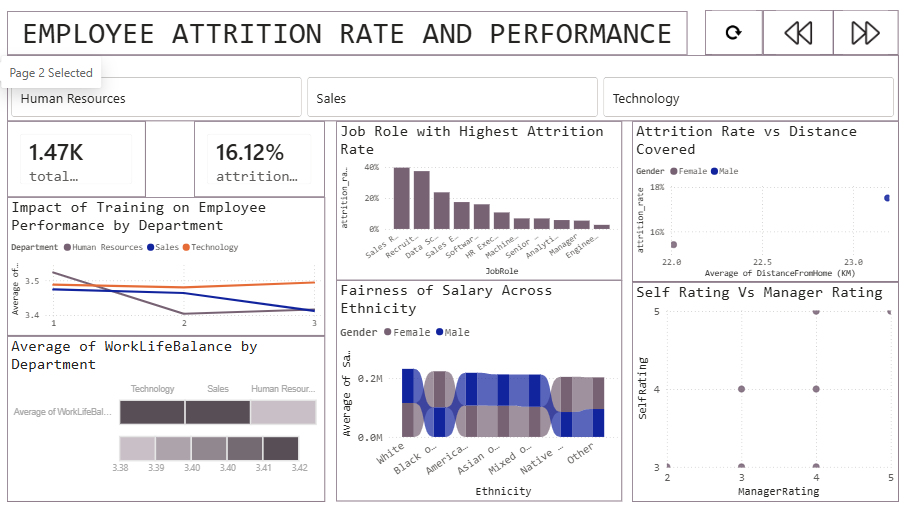

This screenshot's page, from the dashboard's own definition file:
{"tool":"powerbi","page":{"name":"Page 2","canvas":[1280,720],"ordinal":1},"visuals":[{"type":"cardVisual","fields":{"Data":["Employee.total employee"]},"box":[17.8,174.3,194.9,107],"z":0},{"type":"cardVisual","fields":{"Data":["Employee.attrition_rate"]},"box":[281.3,174.3,183.9,107],"z":1000},{"type":"clusteredColumnChart","title":"Job Role with Highest Attrition Rate","fields":{"Category":["Employee.JobRole"],"Y":["Employee.attrition_rate"]},"box":[480.3,174.3,402.1,223.7],"z":2000},{"type":"scatterChart","title":"Attrition Rate vs  Distance Covered","fields":{"X":["Avg(Employee.DistanceFromHome (KM))"],"Y":["Employee.attrition_rate"],"Category":["Employee.Gender"],"Series":["Employee.Gender"]},"box":[896.1,174.3,374.6,226.4],"z":3000},{"type":"scatterChart","title":"Self Rating Vs Manager Rating","fields":{"X":["Sum(PerformanceRating.ManagerRating)1"],"Y":["PerformanceRating.SelfRating"]},"box":[896.1,400.7,374.6,308.7],"z":4000},{"type":"lineChart","title":"Impact of Training on Employee Performance by Department","fields":{"Category":["PerformanceRating.TrainingOpportunitiesWithinYear"],"Y":["Avg(PerformanceRating.ManagerRating)"],"Series":["Employee.Department"]},"box":[17.8,281.3,447.3,194.9],"z":5000},{"type":"ribbonChart","title":"Fairness of Salary Across Ethnicity","fields":{"Category":["Employee.Ethnicity"],"Y":["Avg(Employee.Salary)"],"Series":["Employee.Gender"]},"box":[480.3,397.9,402.1,311.5],"z":6000},{"type":"TableHeatMap1443716069308","fields":{"Category":["Employee.Department"],"Y":["Avg(PerformanceRating.WorkLifeBalance)"]},"box":[17.8,476.2,447.3,233.3],"z":7000},{"type":"advancedSlicerVisual","fields":{"Values":["Employee.Department"]},"box":[17.8,81,1252.8,93.3],"z":8000},{"type":"textbox","box":[17.8,19.2,956.4,61.7],"z":9000},{"type":"image","box":[1178.7,17.8,91.9,63.1],"z":10000},{"type":"image","box":[1079.9,17.8,98.8,63.1],"z":11000},{"type":"image","box":[999,17.8,81,63.1],"z":12000}]}

Visuals, with their boxes on the page's 1280x720 design canvas (x1, y1, x2, y2). These are canvas units, not pixel positions in the 903x513 screenshot, which may show the page scaled, cropped or inside an application window:
cardVisual - Employee.total employee: x1=18 y1=174 x2=213 y2=281
cardVisual - Employee.attrition_rate: x1=281 y1=174 x2=465 y2=281
"Job Role with Highest Attrition Rate" clusteredColumnChart: x1=480 y1=174 x2=882 y2=398
"Attrition Rate vs  Distance Covered" scatterChart: x1=896 y1=174 x2=1271 y2=401
"Self Rating Vs Manager Rating" scatterChart: x1=896 y1=401 x2=1271 y2=709
"Impact of Training on Employee Performance by Department" lineChart: x1=18 y1=281 x2=465 y2=476
"Fairness of Salary Across Ethnicity" ribbonChart: x1=480 y1=398 x2=882 y2=709
TableHeatMap1443716069308 - Employee.Department x Avg(PerformanceRating.WorkLifeBalance): x1=18 y1=476 x2=465 y2=710
advancedSlicerVisual - Employee.Department: x1=18 y1=81 x2=1271 y2=174
textbox: x1=18 y1=19 x2=974 y2=81
image: x1=1179 y1=18 x2=1271 y2=81
image: x1=1080 y1=18 x2=1179 y2=81
image: x1=999 y1=18 x2=1080 y2=81
